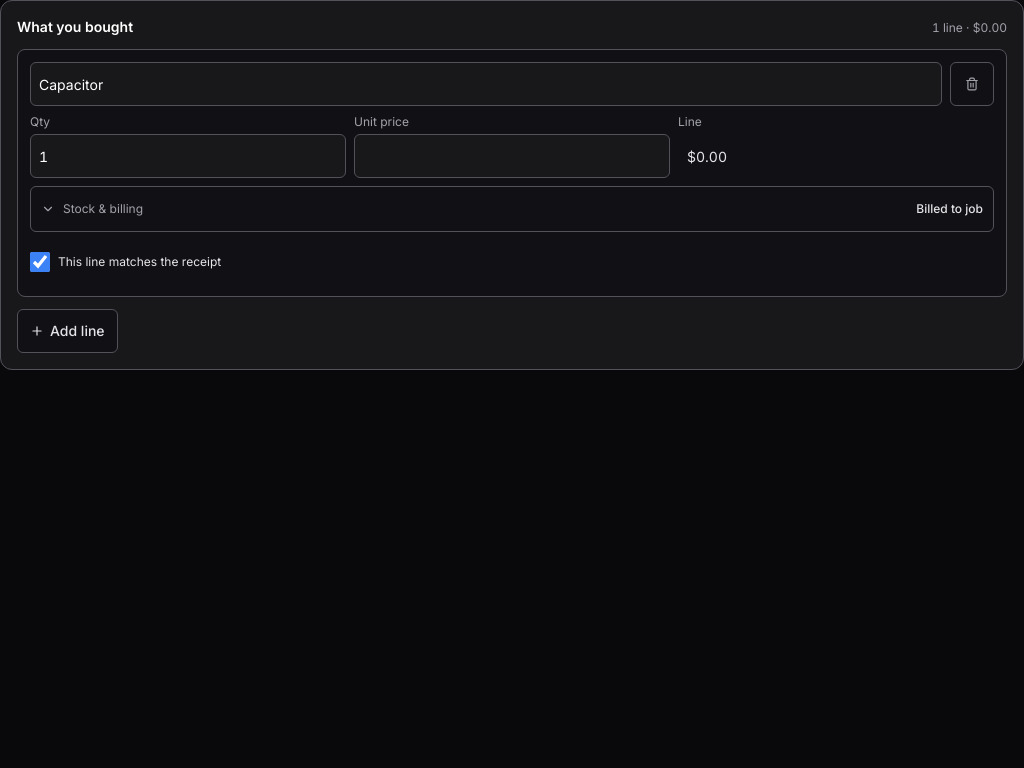
Test case: the receipt-transcription path › still edits the disposition through it
Step 1. Click the button "Stock & billing Billed to job" → (103, 208), box left=31, top=187, right=993, bottom=231
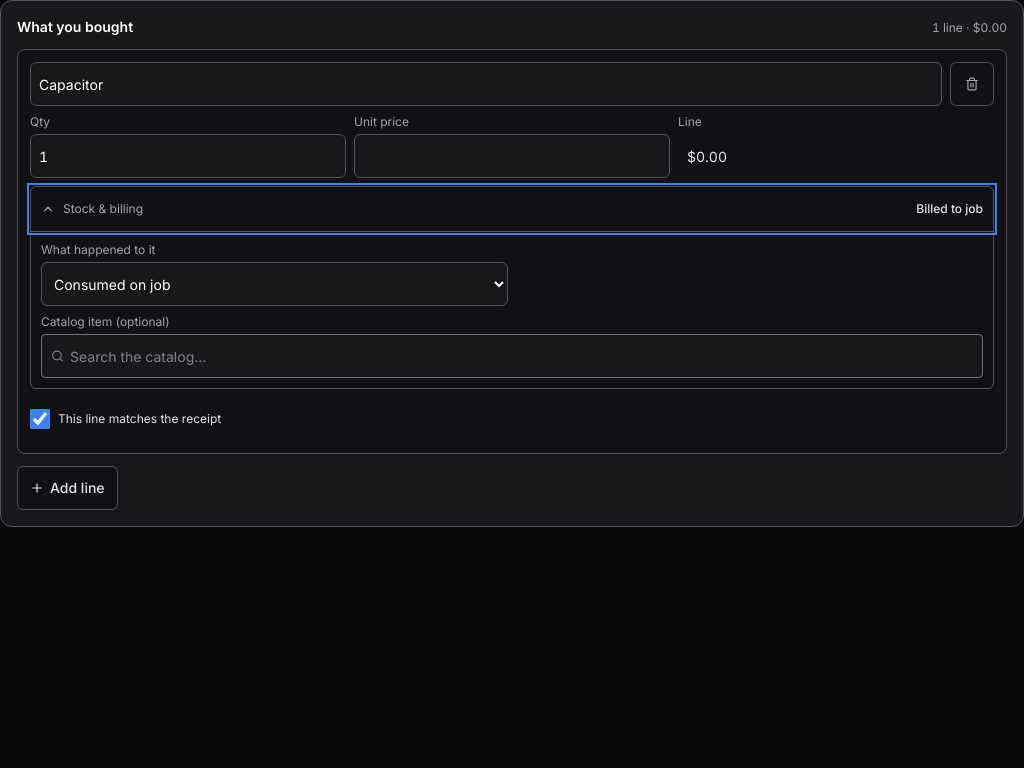
Step 2. Select "Added to stock" in the dropdown labelled "What happened to it" → (274, 284), box left=41, top=262, right=508, bottom=306
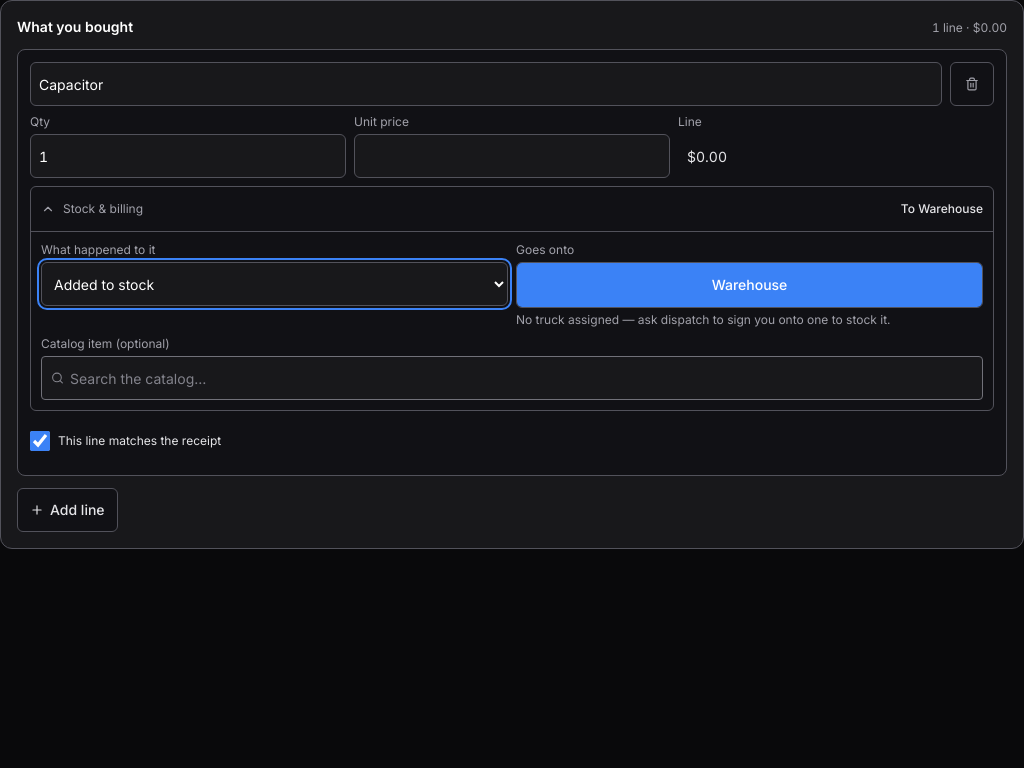
Expected: the text "To Warehouse" is shown, left=901, top=201, right=983, bottom=217
